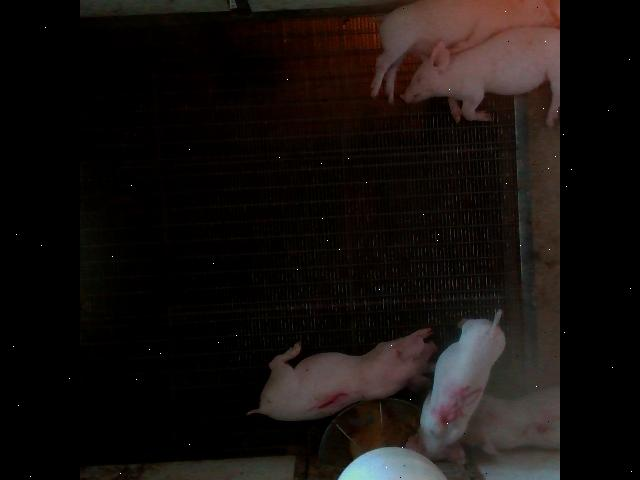pig-1: (248, 328, 436, 420)
pig-3: (460, 386, 558, 452)
pig-5: (408, 310, 505, 459)
